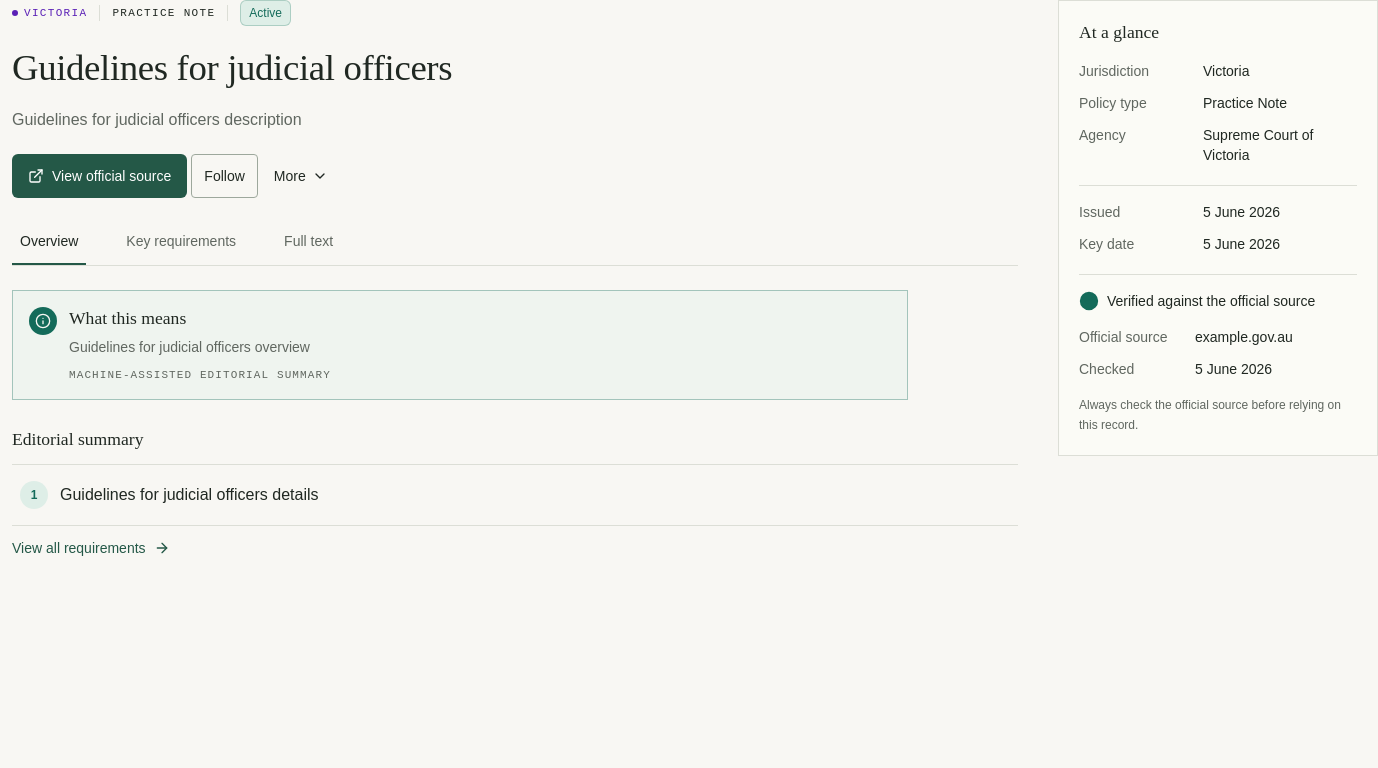
CourtsBrowser › carries structured requirements and exceptions into the full record
This screenshot has width=1378, height=768.
(page scrolled)
Click the tab "Key requirements" at (181, 242), box [118,218,244,266]
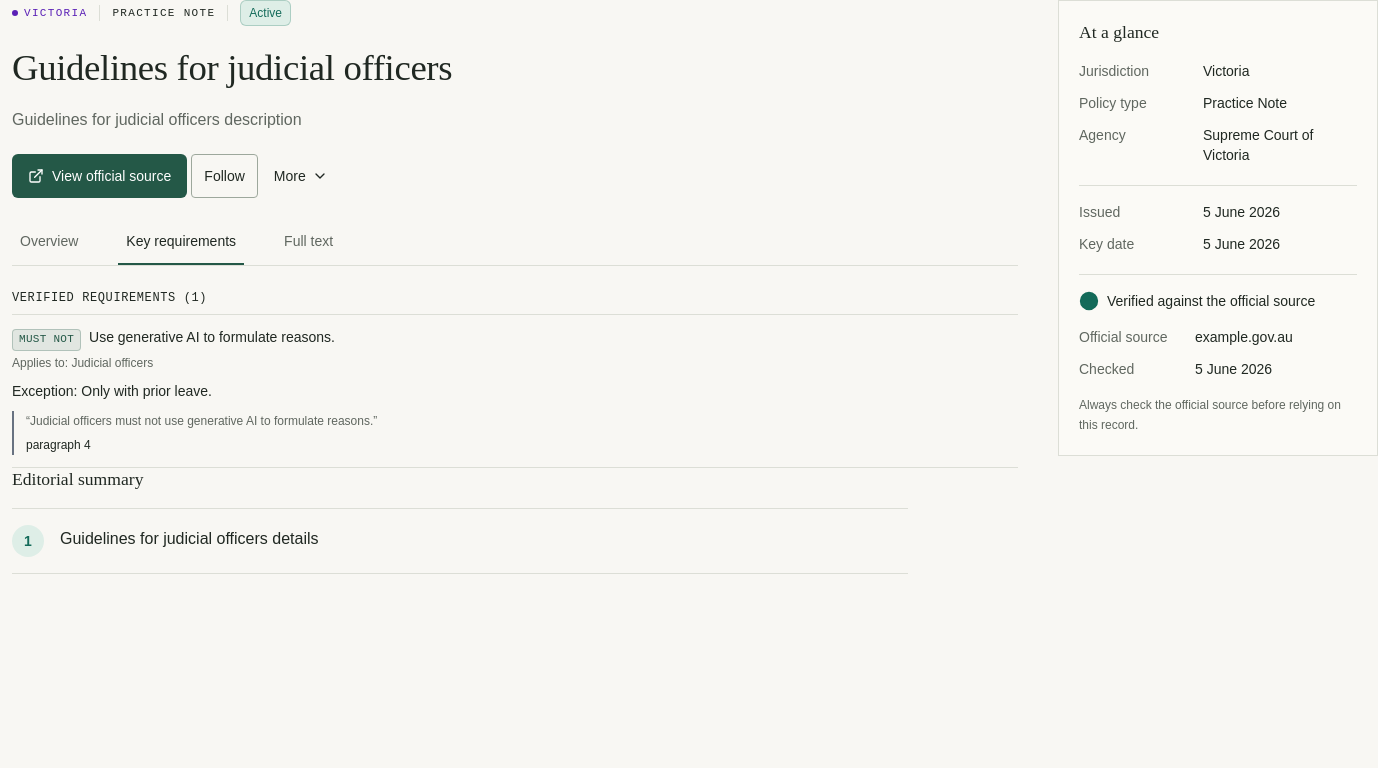
Expected: the heading "Verified requirements (1)" is shown, [12,291,207,305]
Expected: the text "Exception: Only with prior leave." is shown, [12,383,212,399]
Expected: the text "paragraph 4" is shown, [26,438,91,452]
